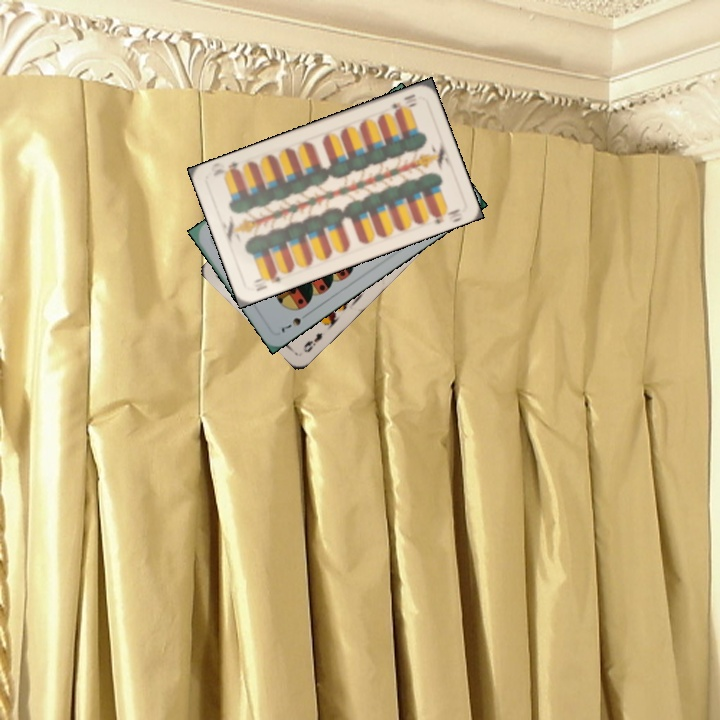E10: (249, 268, 283, 294), (387, 90, 419, 116)
E9: (299, 328, 325, 355)
S7: (277, 308, 312, 335)
